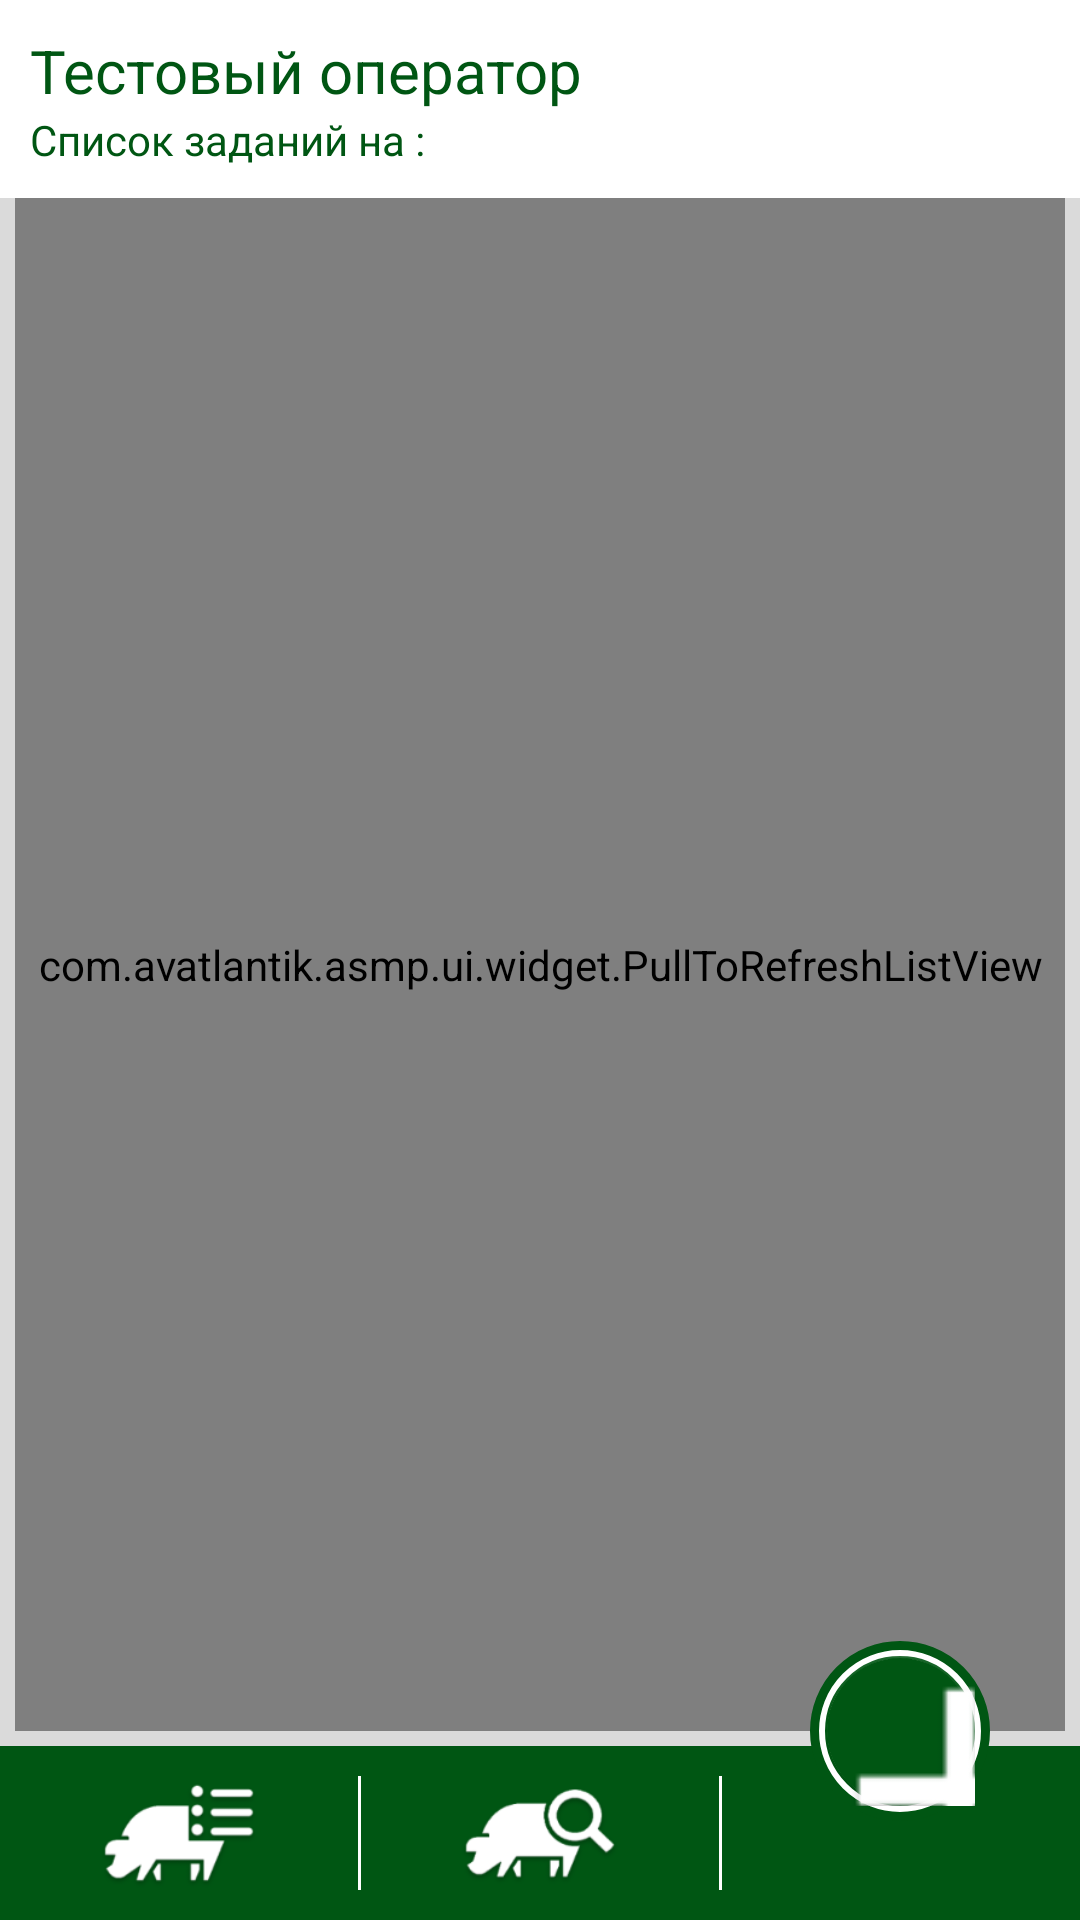

Icons on this 1080 × 1920 Android screen, each with the point to tap as [x,y]:
find animal: [539,1833]
list animal: [179,1833]
